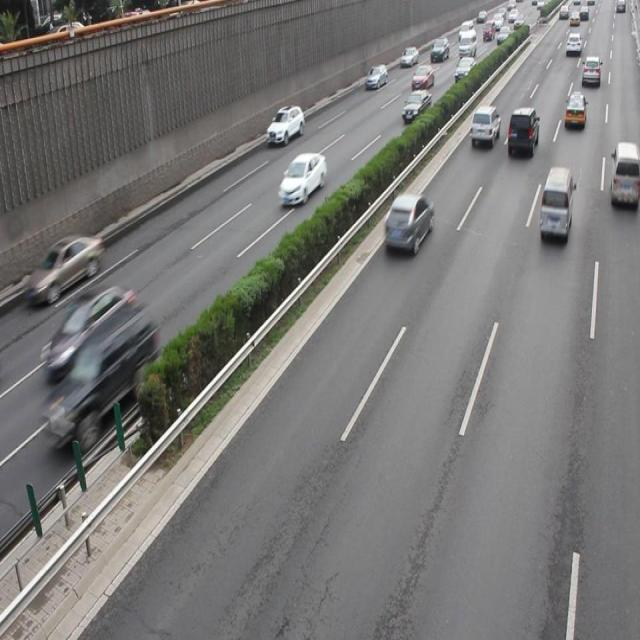car: (46, 303, 158, 448), (47, 286, 134, 378), (27, 231, 104, 306), (383, 191, 435, 251), (278, 151, 328, 205), (266, 105, 304, 144), (506, 108, 538, 154), (469, 105, 500, 147), (400, 90, 431, 122), (563, 91, 585, 129)
truck: (538, 164, 571, 235), (609, 140, 640, 210)
